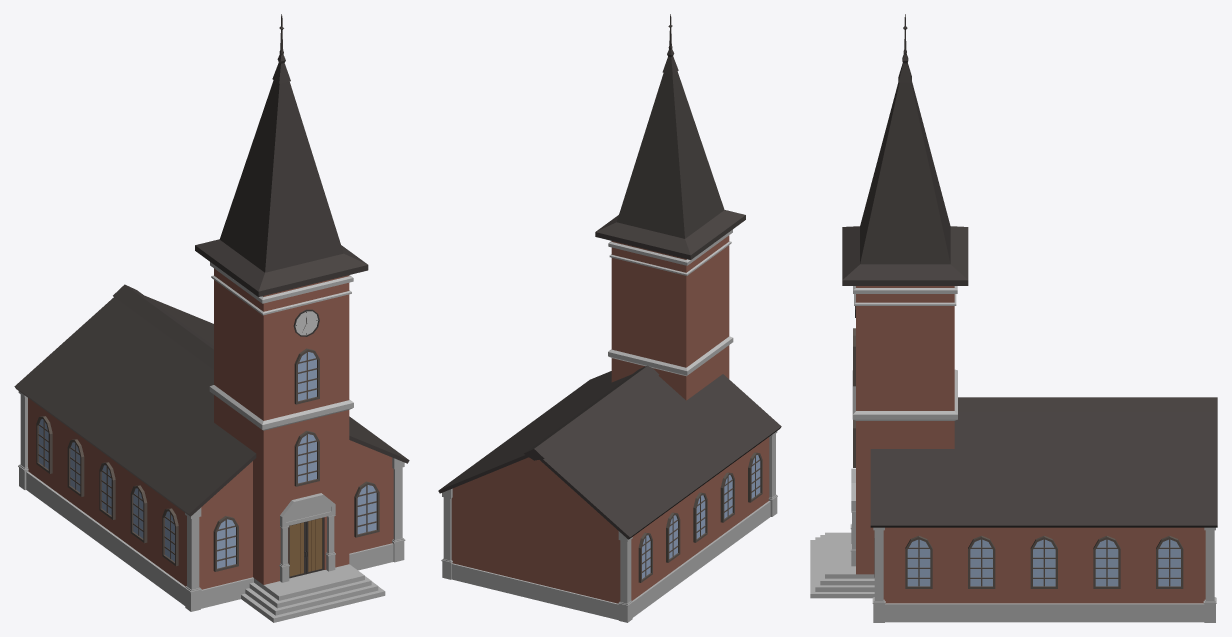
File: Church_01.glb
3 views of the same model, side by side, from view 1: azimuth 30°, elevation 25°; view 2: azimuth 150°, elevation 25°; view 3: azimuth 270°, elevation 25° (orthographic). The views are drawn at different scales.
Parts seen in each view (by area): view 1: Church_01; view 2: Church_01; view 3: Church_01.
Part boxes in pixels (x1,y1,x2,y2): Church_01: (14, 14, 409, 622); Church_01: (438, 14, 781, 622); Church_01: (810, 14, 1217, 622).
Size of the model in its own units: 12.87 by 31.22 by 20.68.
Materials: 1 (1 with a texture image).
